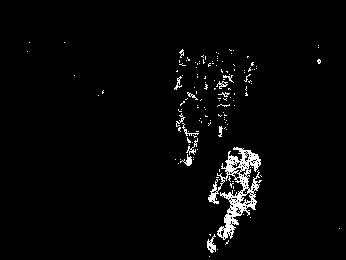person: (177, 89, 209, 166), (218, 74, 234, 138)
